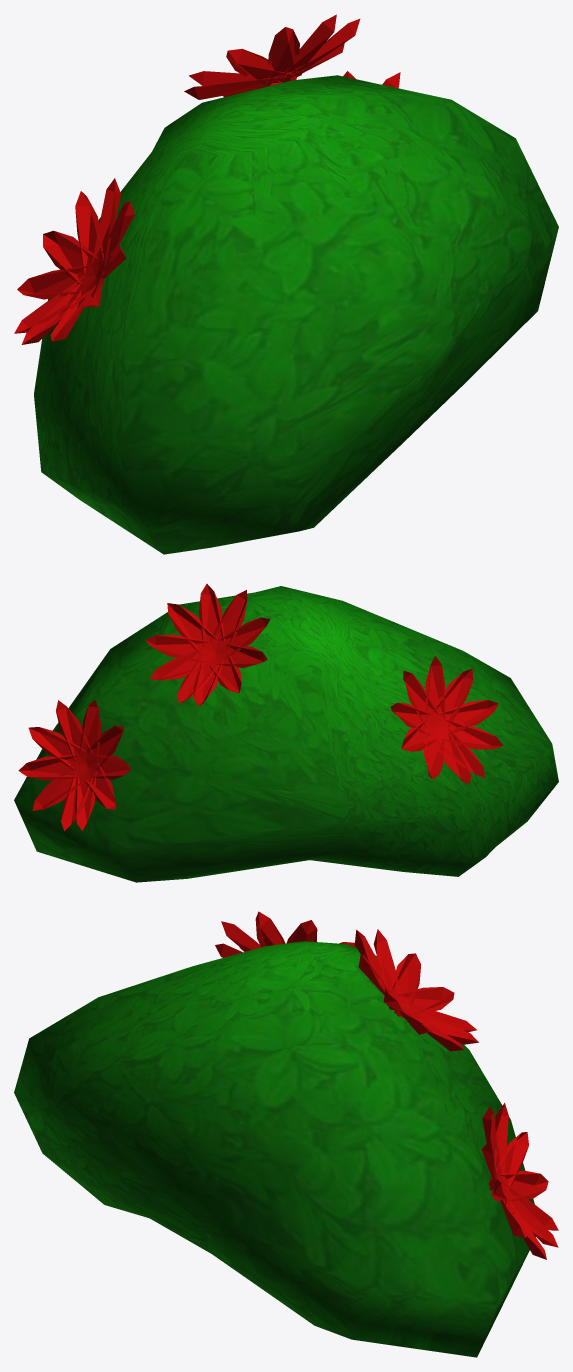
Rendered from plant 2.fbx.
The picture shows the model from 3 angles, top to bottom: view 1: azimuth 30°, elevation 25°; view 2: azimuth 150°, elevation 25°; view 3: azimuth 270°, elevation 25°; orthographic projection. The views are drawn at different scales.
Visible parts, largest first — view 1: plant_2; view 2: plant_2; view 3: plant_2.
Part boxes in pixels (<box>): plant_2: <box>14,14,558,554</box>; plant_2: <box>14,583,558,882</box>; plant_2: <box>14,911,558,1357</box>.
Size of the model in its own units: 19.64 by 12.86 by 18.3.
